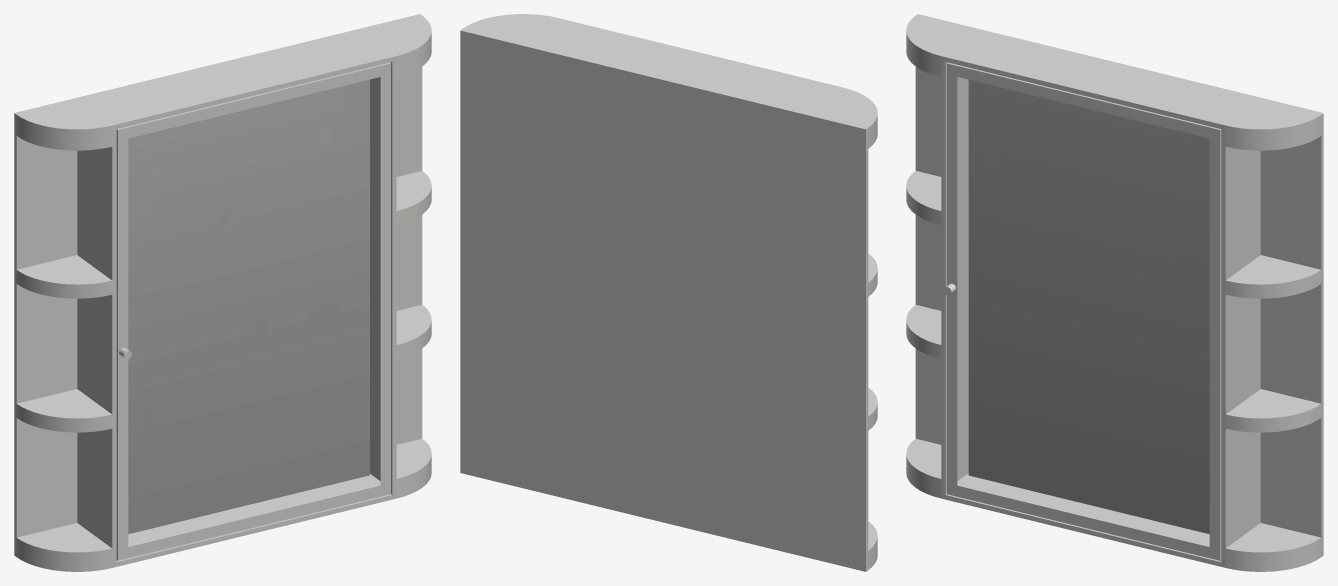
Rendered from mirror 4.glb.
3 renders of one model, left to right at view 1: azimuth 30°, elevation 25°; view 2: azimuth 150°, elevation 25°; view 3: azimuth 330°, elevation 25°, orthographic.
Visible parts, largest first — view 1: frame, mirror; view 2: frame; view 3: frame, mirror.
Boxes of the visible parts, x1=… form: frame: x1=14, y1=14, x2=431, y2=571; mirror: x1=128, y1=79, x2=369, y2=534; frame: x1=460, y1=14, x2=877, y2=571; frame: x1=906, y1=14, x2=1323, y2=571; mirror: x1=968, y1=80, x2=1209, y2=534.
Bounding box in the file's own units: 39.53 × 41.19 × 7.09.
2 materials, 1 textured.
